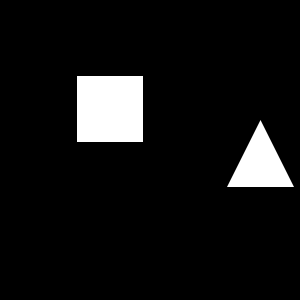circle: (77, 76, 143, 142)
triangle: (227, 120, 294, 187), (83, 91, 129, 137)
